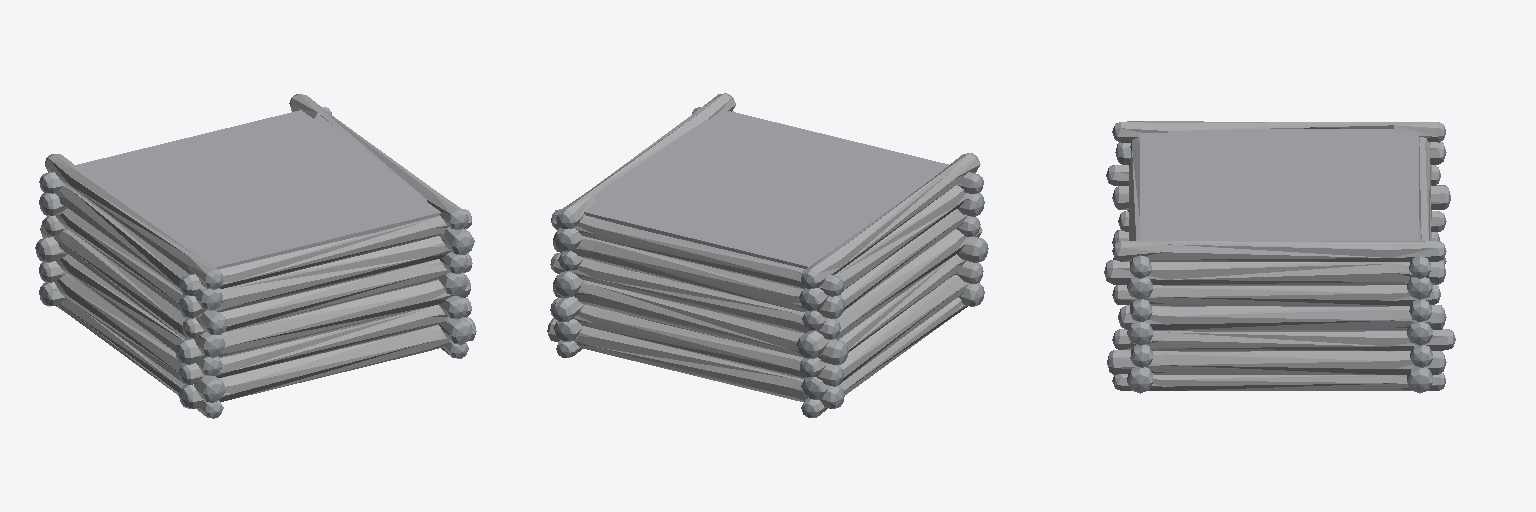
3 views of the same model, side by side, from view 1: azimuth 30°, elevation 25°; view 2: azimuth 150°, elevation 25°; view 3: azimuth 270°, elevation 25° (orthographic).
Visible parts, largest first — view 1: SM_Bld_Base_01_Mesh; view 2: SM_Bld_Base_01_Mesh; view 3: SM_Bld_Base_01_Mesh.
Boxes of the visible parts, x1,y1,x2,y2 form: SM_Bld_Base_01_Mesh: [35, 94, 476, 418]; SM_Bld_Base_01_Mesh: [547, 93, 988, 417]; SM_Bld_Base_01_Mesh: [1104, 121, 1455, 393].
Bounding box in the file's own units: 4.95 × 2.38 × 5.09.
Materials: 1 (1 with a texture image).